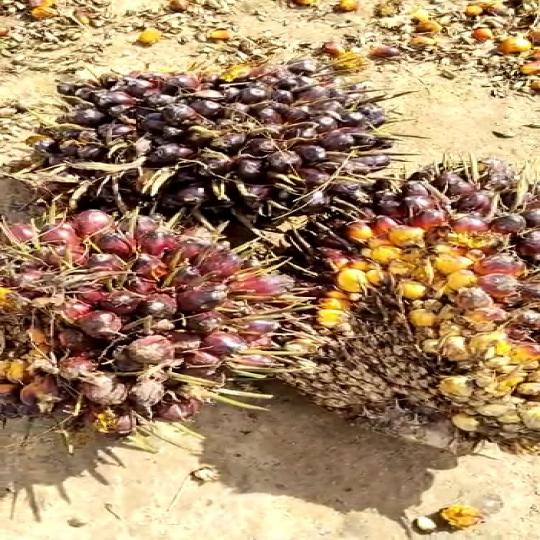kurang masak: (233, 156, 540, 471), (0, 210, 307, 452), (25, 68, 424, 221)
